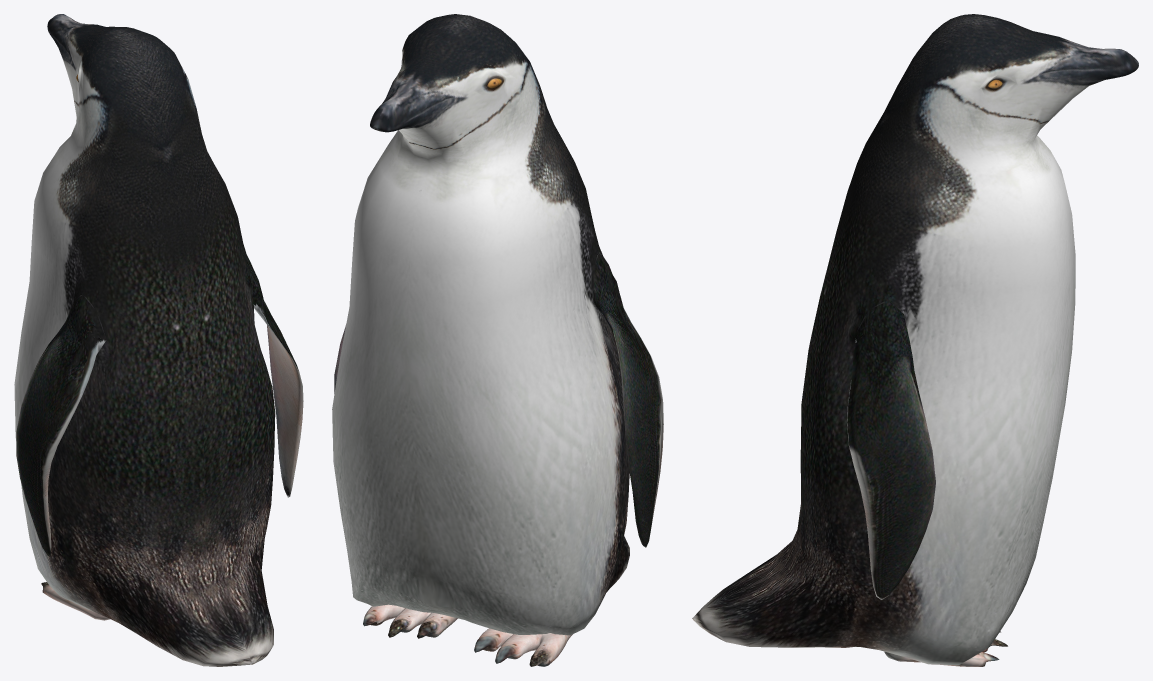
The model's file is asset.glb.
The picture shows the model from 3 angles, left to right: view 1: azimuth 30°, elevation 25°; view 2: azimuth 150°, elevation 25°; view 3: azimuth 270°, elevation 25°; orthographic projection. The views are drawn at different scales.
Visible parts, largest first — view 1: Object_2; view 2: Object_2; view 3: Object_2.
Part boxes in pixels (x1,y1,x2,y2): Object_2: [14, 14, 303, 666]; Object_2: [332, 14, 663, 666]; Object_2: [692, 14, 1138, 666].
Bounding box in the file's own units: 0.4792 × 0.9549 × 0.637.
Materials: 1 (1 with a texture image).
